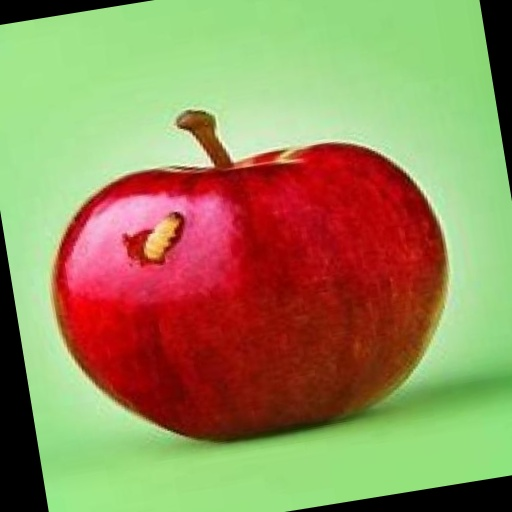fruit: (53, 111, 446, 439)
